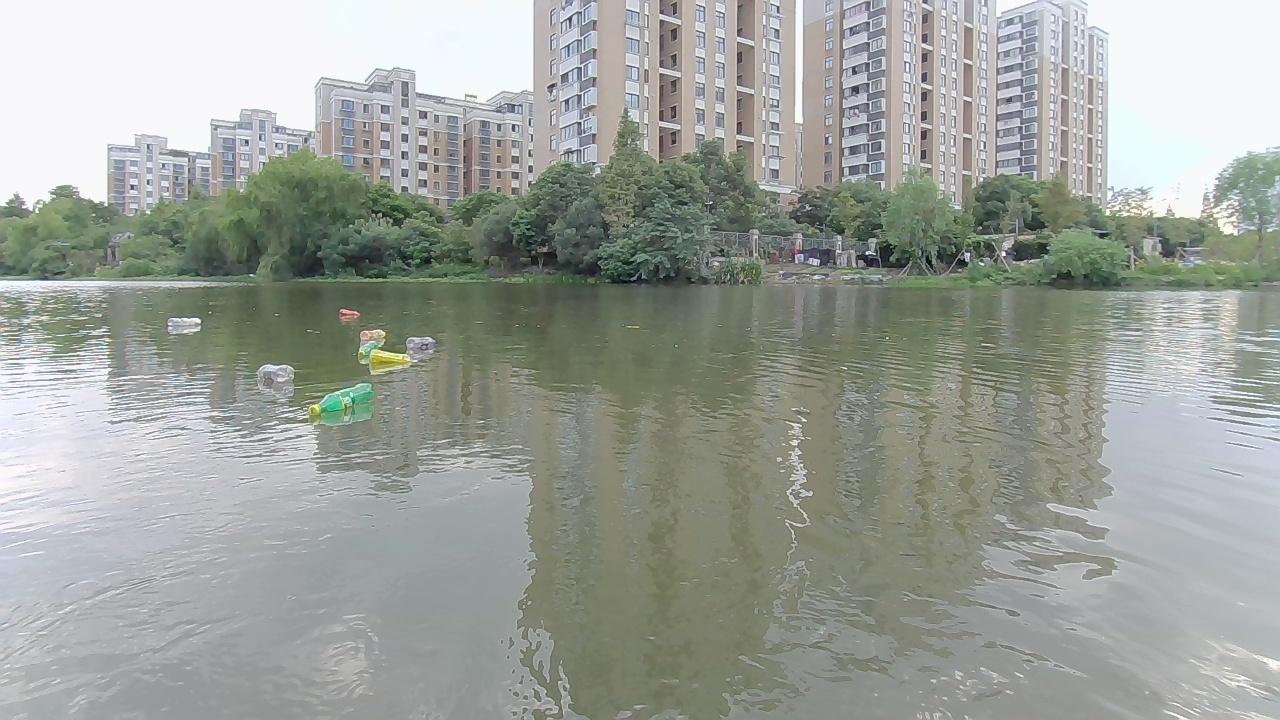bottle: (305, 381, 376, 417), (369, 350, 421, 374), (254, 357, 295, 387), (168, 313, 207, 337), (352, 339, 380, 356), (405, 332, 436, 347), (358, 327, 385, 341), (336, 305, 359, 321)
